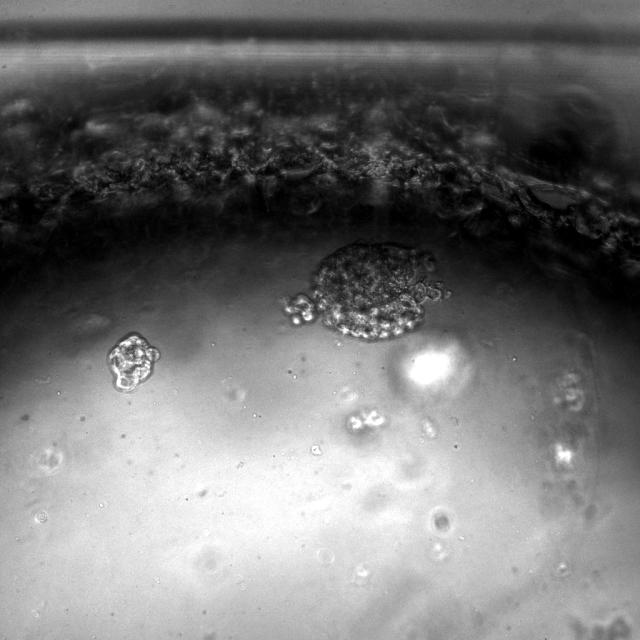organoid: (283, 242, 448, 341), (107, 333, 160, 392)
